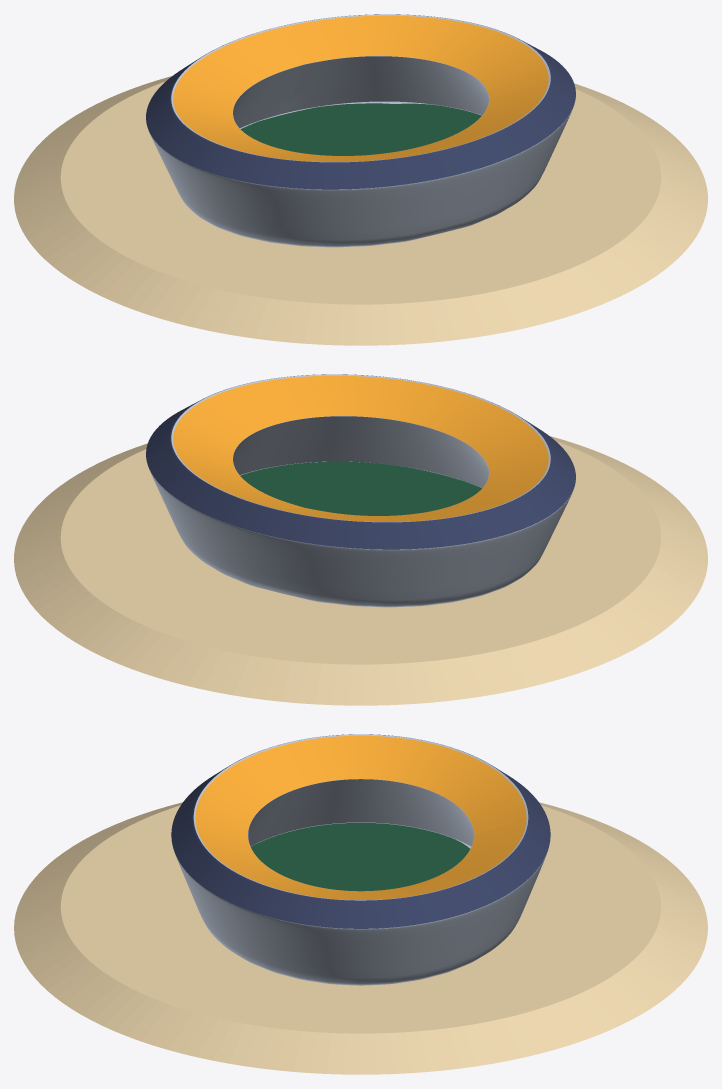
File: Stadium.glb
3 renders of one model, top to bottom at view 1: azimuth 30°, elevation 25°; view 2: azimuth 150°, elevation 25°; view 3: azimuth 270°, elevation 25°, orthographic.
Parts seen in each view (by area): view 1: Platform, Cylinder; view 2: Platform, Cylinder; view 3: Platform, Cylinder.
Boxes of the visible parts, box(x1,y1,x2,y2) form: Platform: box(14, 76, 707, 345); Cylinder: box(146, 14, 575, 247); Platform: box(14, 436, 707, 705); Cylinder: box(146, 374, 575, 607); Platform: box(14, 802, 707, 1074); Cylinder: box(171, 734, 550, 985).
Bounding box in the file's own units: 15.7 × 2.76 × 15.7.
